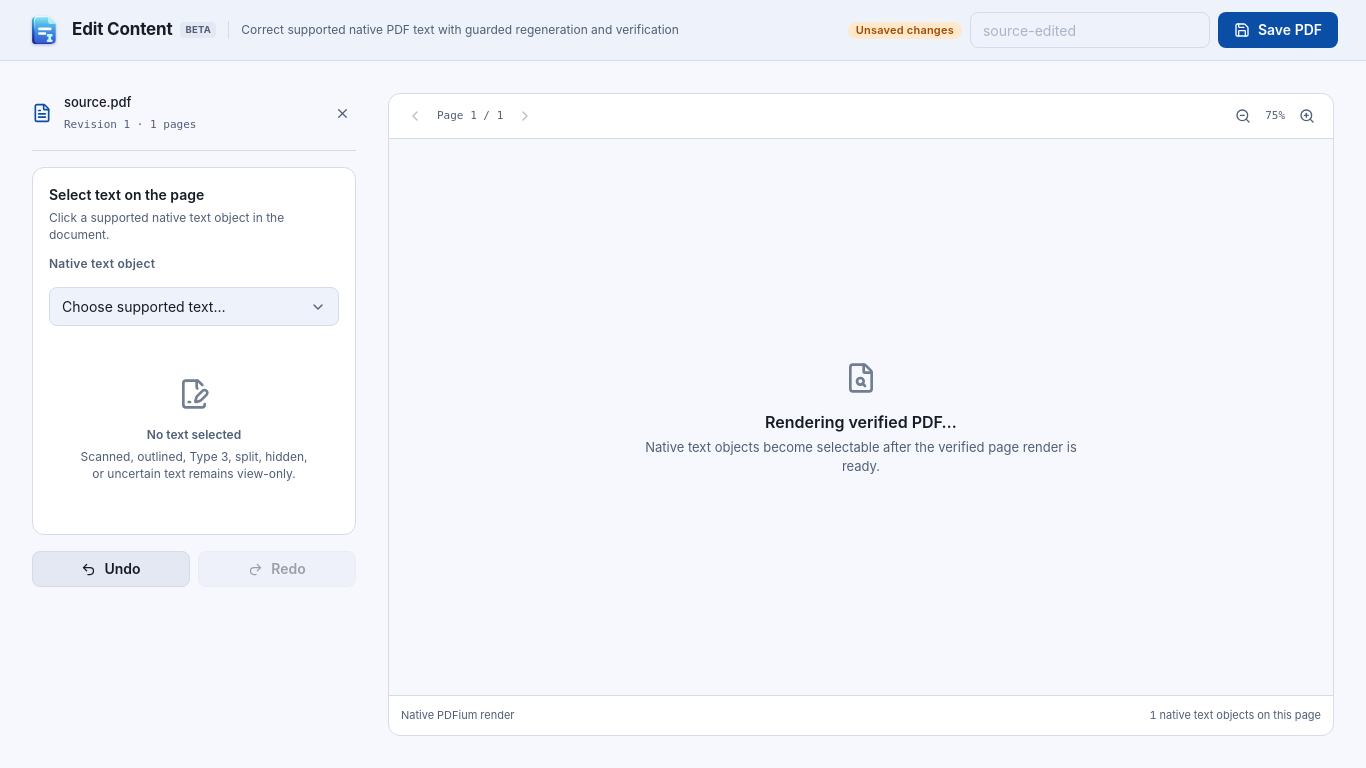
Test: Edit Content page › offers Open Folder once the verified PDF has been saved
This screenshot has width=1366, height=768.
Click the button "Save PDF".
click(1278, 30)  # box [1218,12,1338,48]
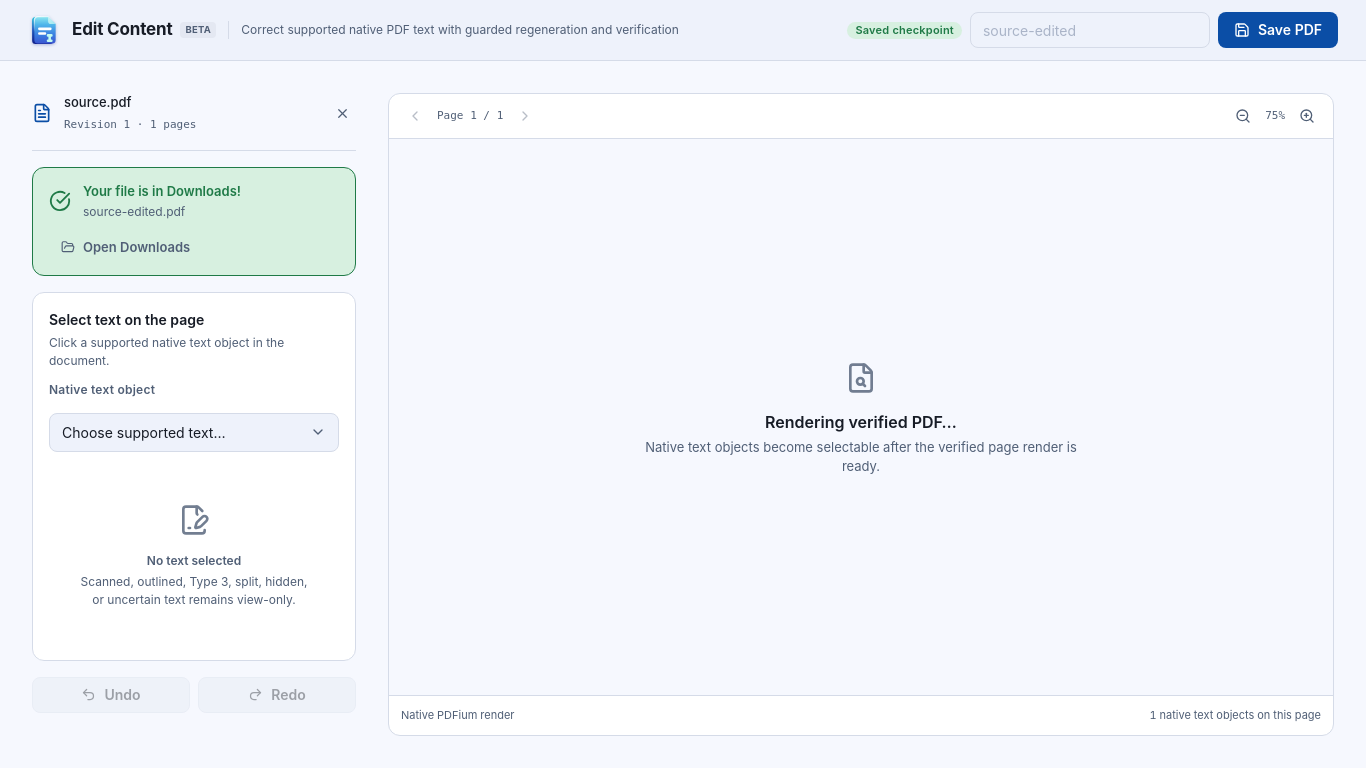
Result: the text "source-edited.pdf" is shown at [83,204,185,219]
Result: the button with id "edit-content-open-folder-btn" is shown at [49,233,202,261]
